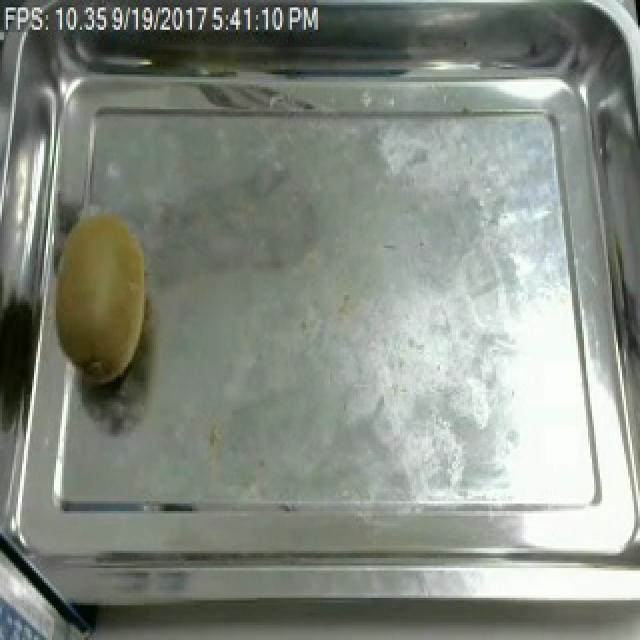Fruit: (34, 198, 160, 394)
